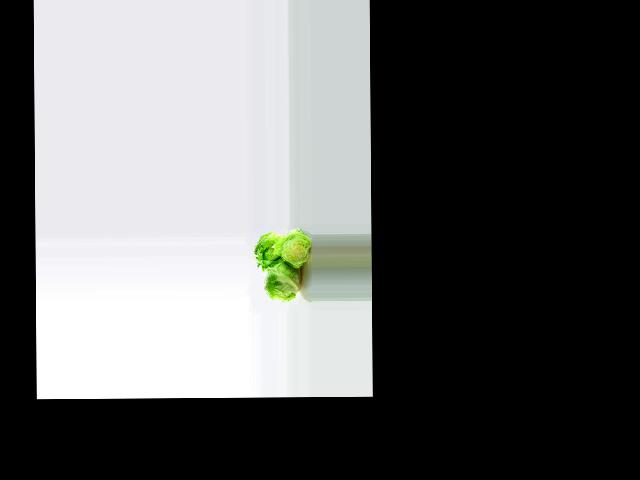lettuce: (250, 231, 285, 273)
